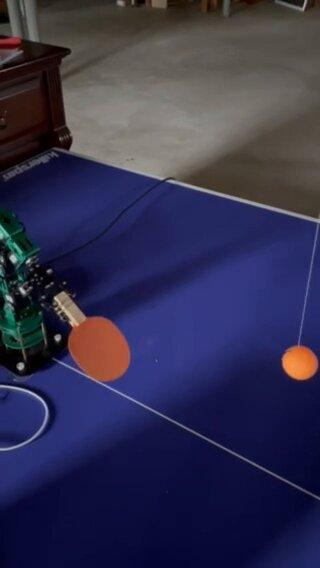oball: (282, 346, 319, 379)
